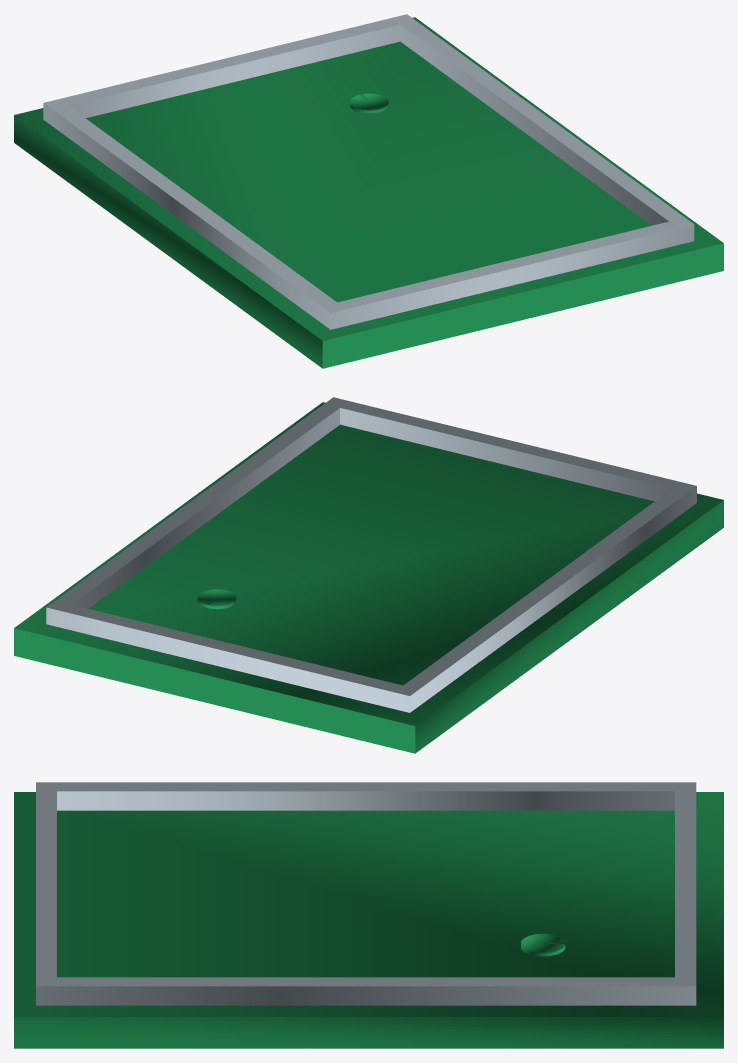
Rendered from Level13.fbx.
3 renders of one model, top to bottom at view 1: azimuth 30°, elevation 25°; view 2: azimuth 150°, elevation 25°; view 3: azimuth 270°, elevation 25°, orthographic. The views are drawn at different scales.
Parts seen in each view (by area): view 1: Box002, Rectangle0; view 2: Box002, Rectangle0; view 3: Box002, Rectangle0.
Boxes of the visible parts, x1=… form: Box002: x1=14, y1=17, x2=723, y2=368; Rectangle0: x1=43, y1=14, x2=694, y2=329; Box002: x1=14, y1=402, x2=723, y2=753; Rectangle0: x1=46, y1=397, x2=696, y2=712; Box002: x1=14, y1=792, x2=723, y2=1048; Rectangle0: x1=36, y1=782, x2=696, y2=1005.
Size of the model in its own units: 135 by 14.27 by 180.
